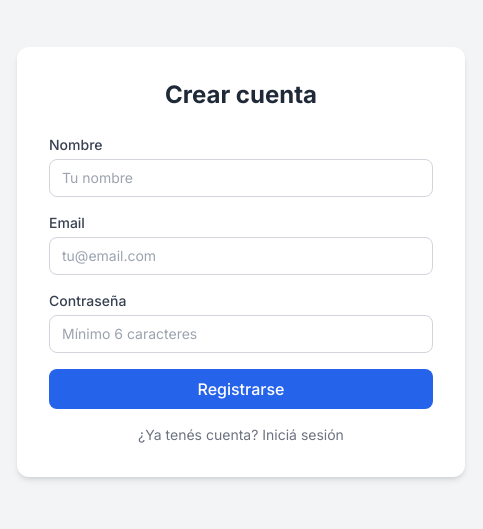
Test case: Register — interacción › muestra error si el registro falla
Type "Gian" into the field with placeholder "Tu nombre" at (241, 178), box [49,159,433,197]
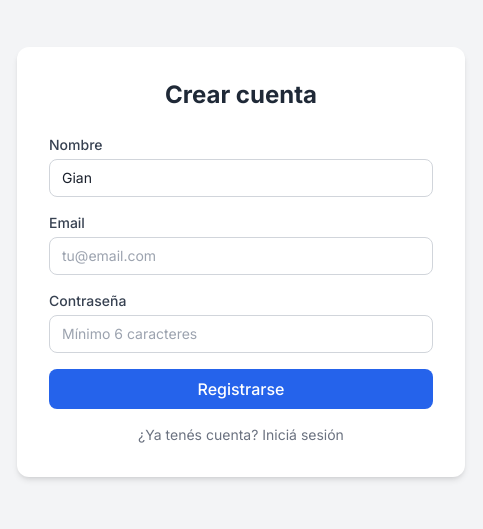
Type "gian@test.com" into the field with placeholder "tu@email.com" at (241, 256), box [49,237,433,275]
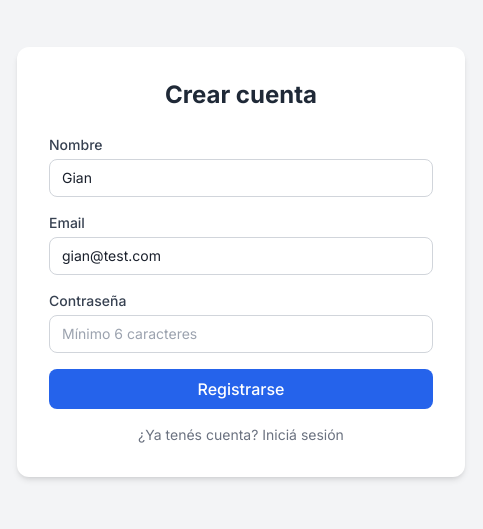
Type "123456" into the password field with placeholder "Mínimo 6 caracteres" at (241, 334), box [49,315,433,353]
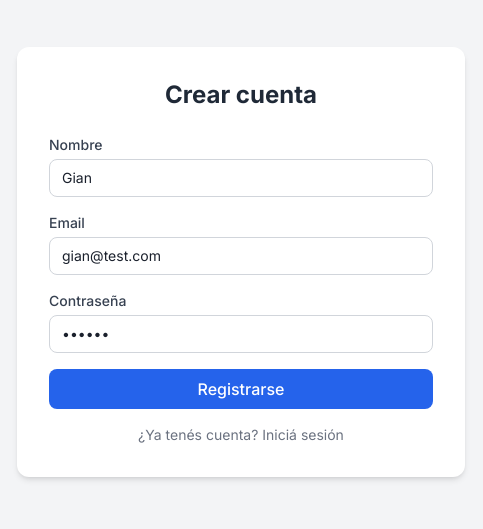
Click the button "Registrarse" at (241, 389), box [49,369,433,409]
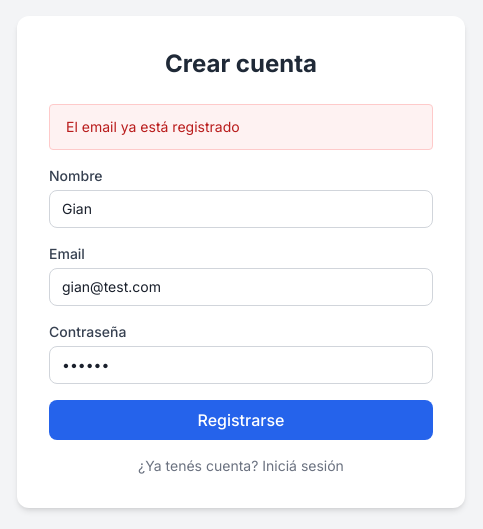
Now the text "El email ya está registrado" is shown, box [49,104,433,150]
